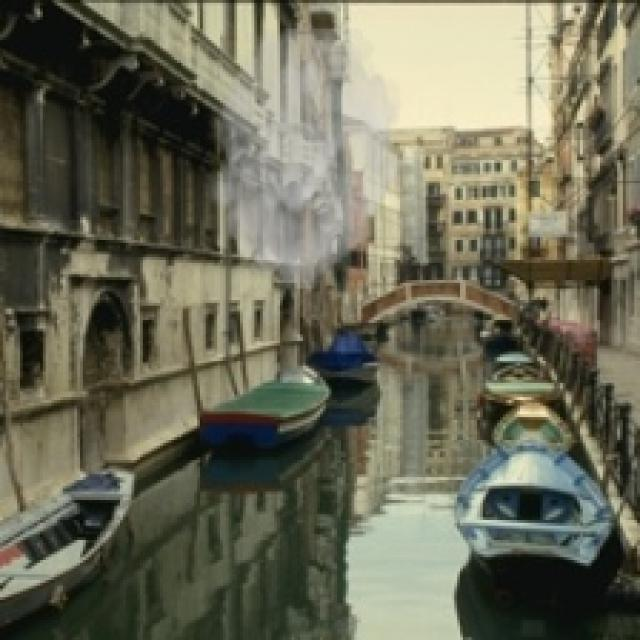Smoke: (202, 28, 408, 288)
